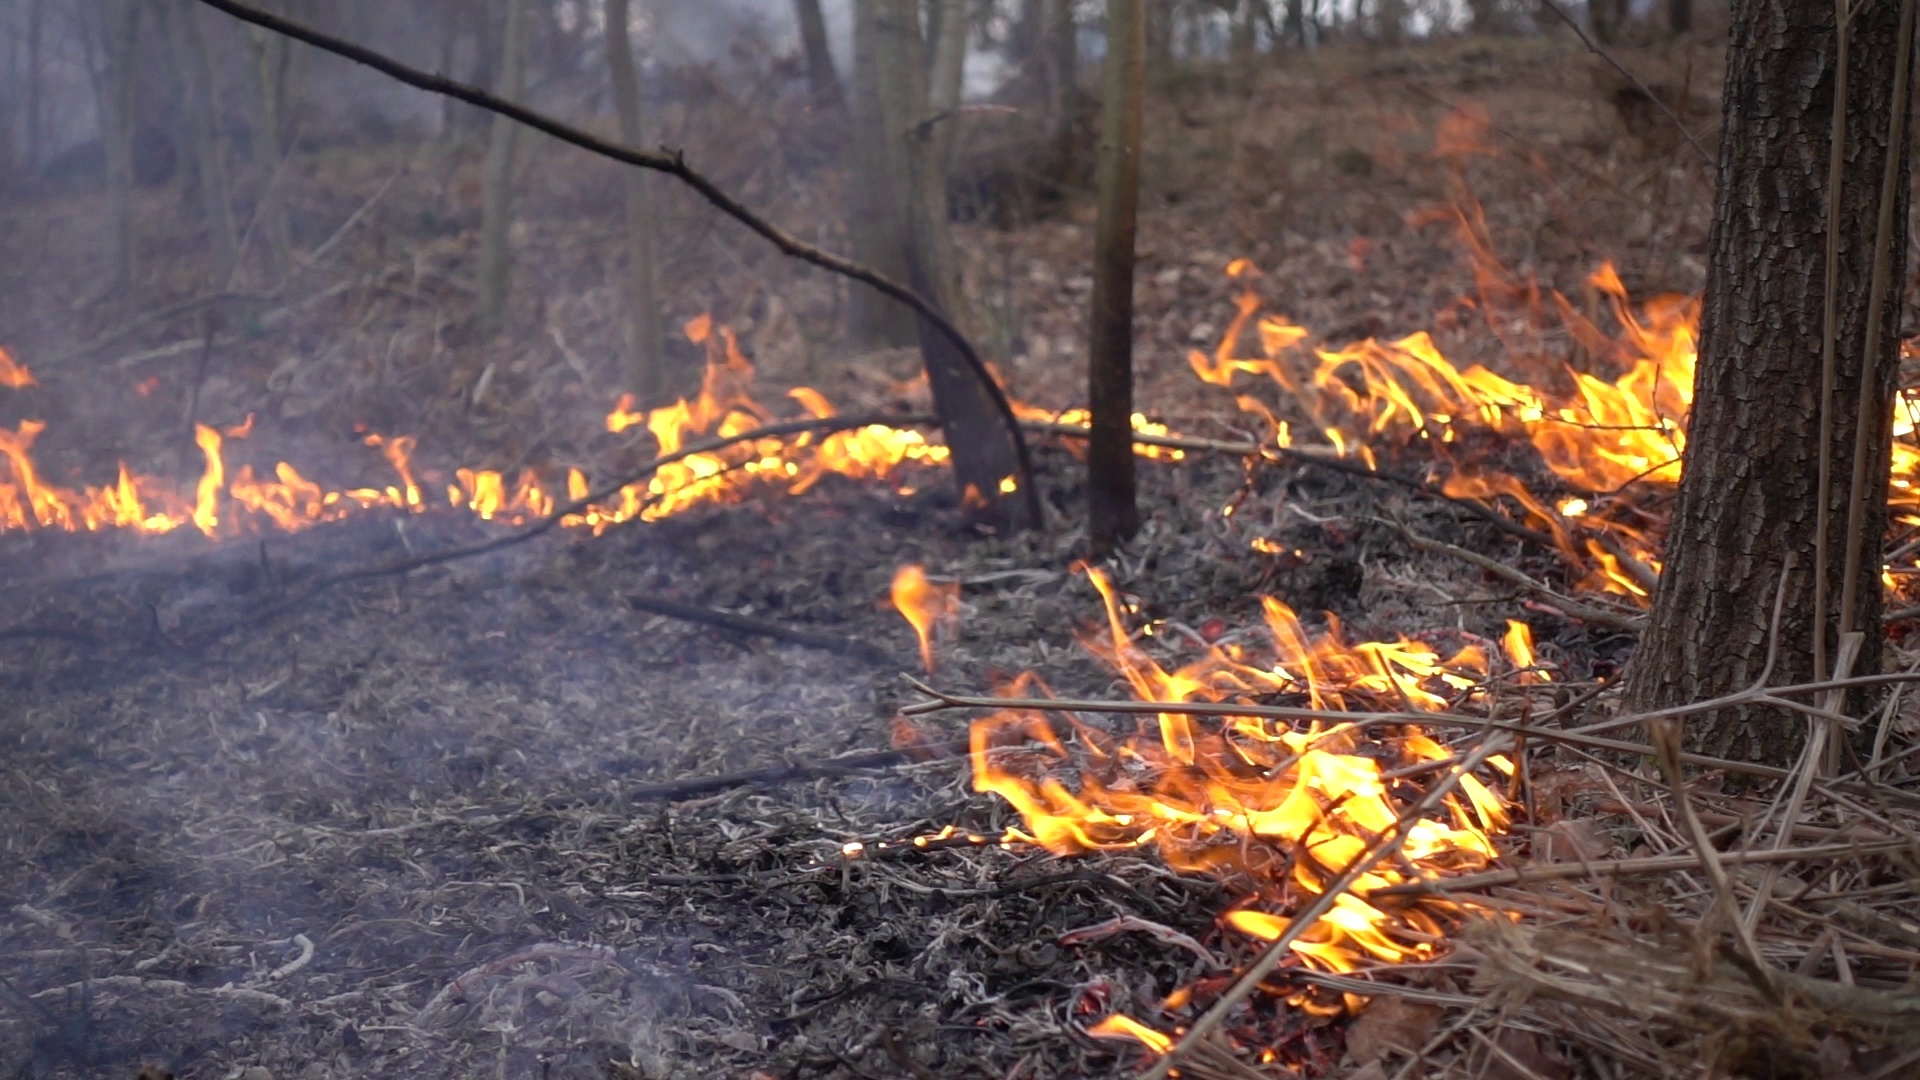fire: (972, 601, 1549, 968), (1229, 277, 1701, 597), (593, 349, 949, 514), (1, 422, 419, 533), (443, 459, 554, 521), (1888, 396, 1920, 514), (1129, 410, 1168, 459)
